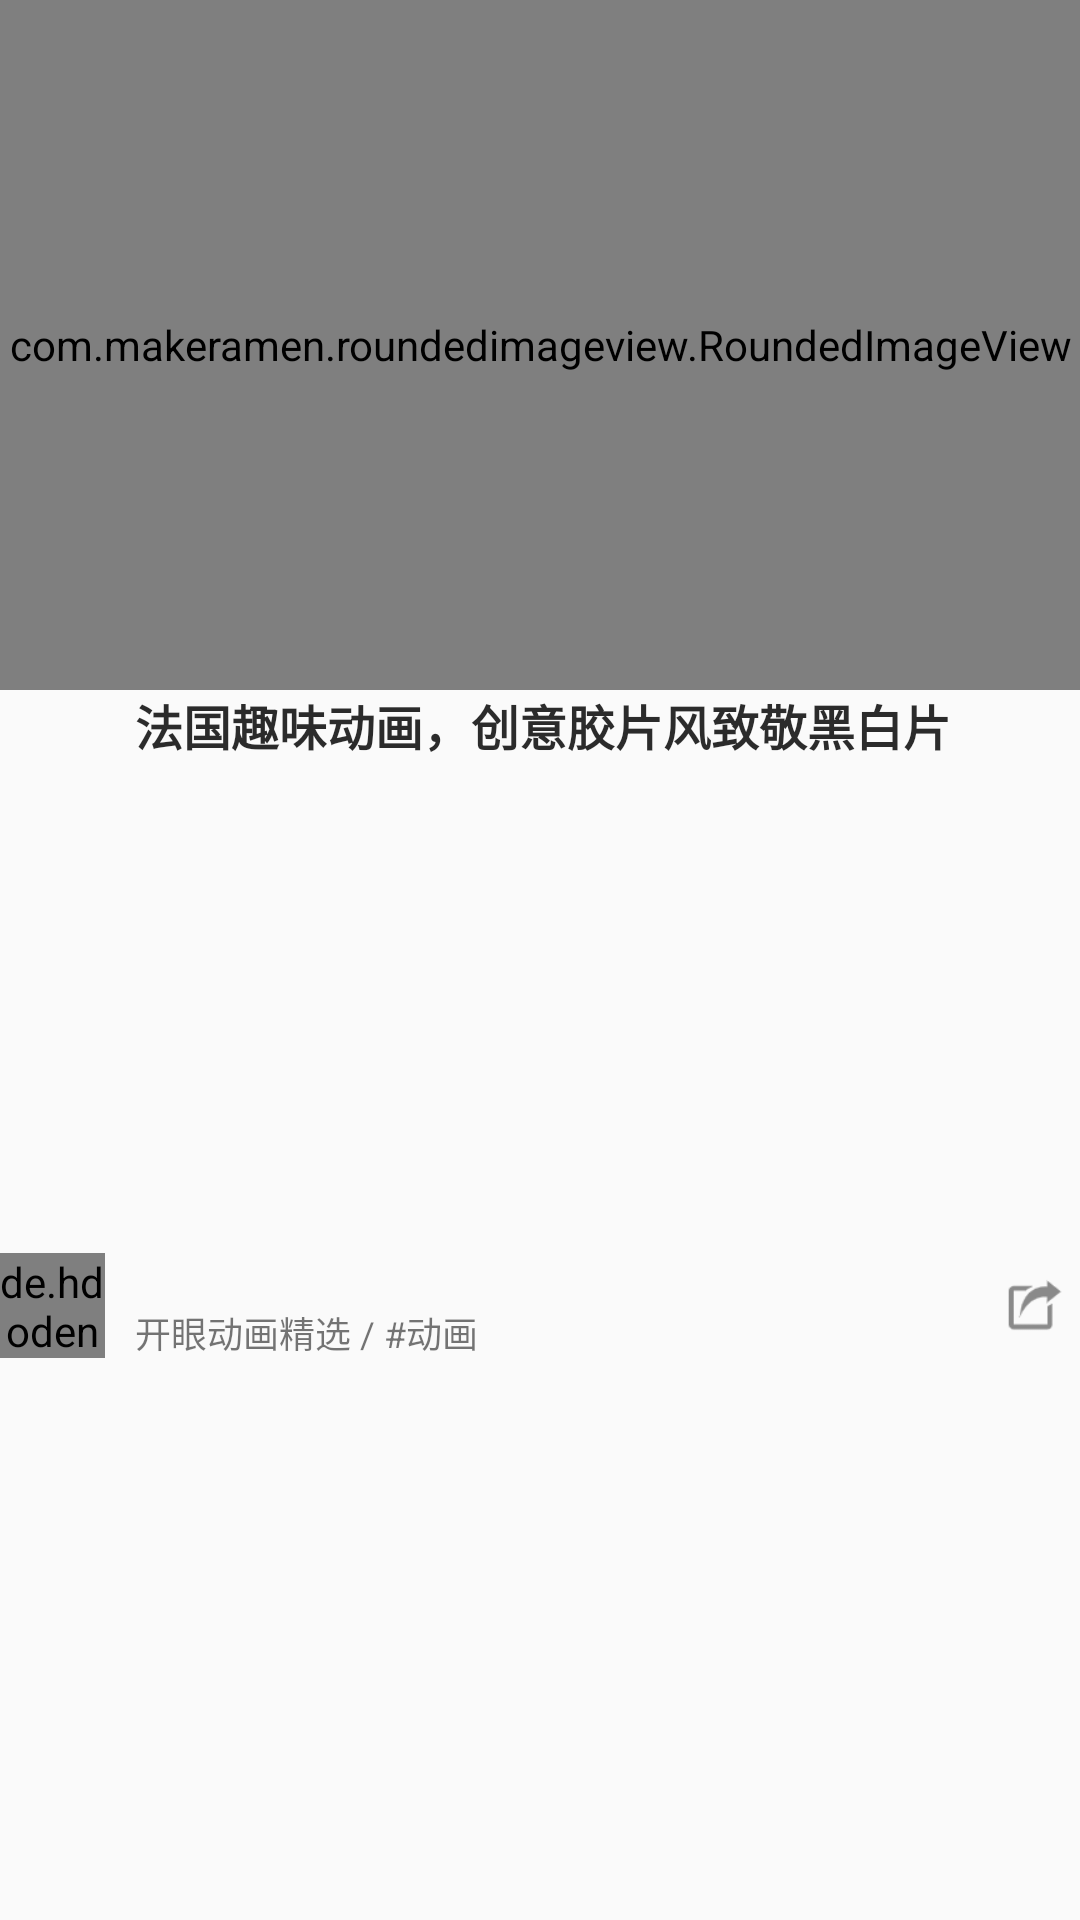

Where to tap for icons on this 1080×1920 app screen, as (x,y):
share: (1034,1305)
